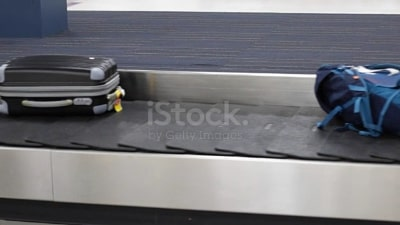baggage: (1, 48, 130, 125), (307, 60, 400, 145)
